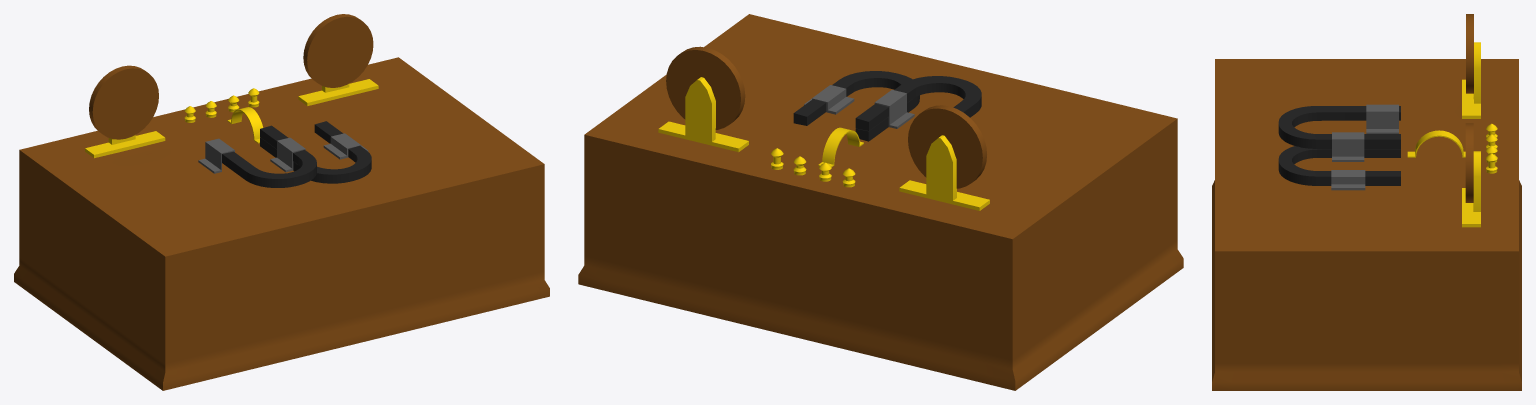
Rendered from detector-magnetico.fbx.
3 renders of one model, left to right at view 1: azimuth 30°, elevation 25°; view 2: azimuth 150°, elevation 25°; view 3: azimuth 270°, elevation 25°, orthographic. The views are drawn at different scales.
Parts seen in each view (by area): view 1: Cylinder.003; view 2: Cylinder.003; view 3: Cylinder.003.
Part boxes in pixels (box(x1,y1,x2,y2)): Cylinder.003: box(14, 14, 549, 390); Cylinder.003: box(578, 14, 1183, 390); Cylinder.003: box(1212, 14, 1521, 390).
Bounding box in the file's own units: 612 × 320 × 408.
